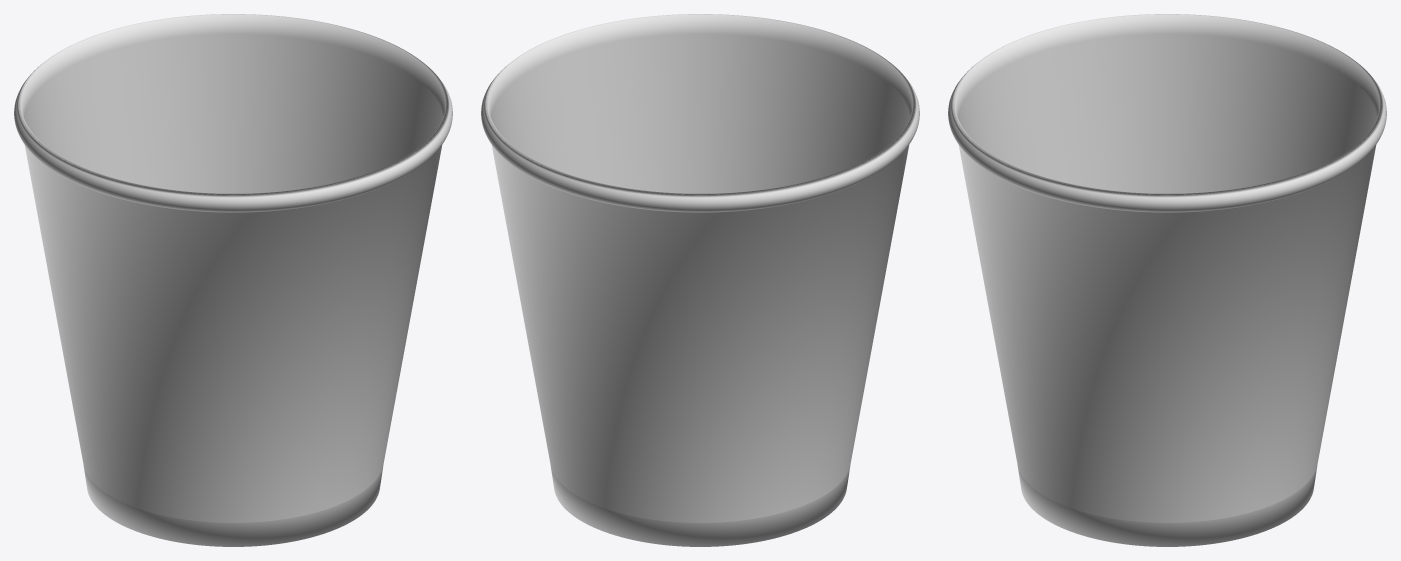
File: gota-3.5oz.glb
The picture shows the model from 3 angles, left to right: view 1: azimuth 30°, elevation 25°; view 2: azimuth 150°, elevation 25°; view 3: azimuth 270°, elevation 25°; orthographic projection.
Visible parts, largest first — view 1: GOTSA.009; view 2: GOTSA.009; view 3: GOTSA.009.
Part boxes in pixels (x1,y1,x2,y2): GOTSA.009: (14,14,452,546); GOTSA.009: (481,14,919,546); GOTSA.009: (948,14,1386,546).
Bounding box in the file's own units: 0.0585 × 0.056 × 0.0585.
2 materials, 1 textured.
